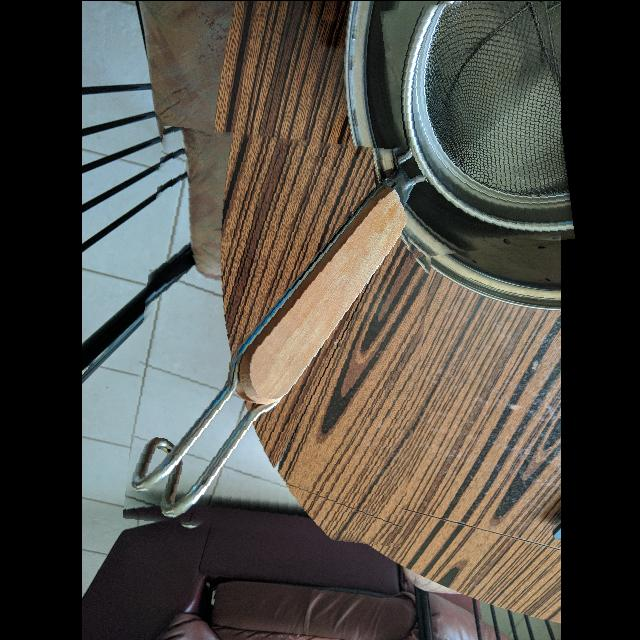Handle: (125, 152, 438, 523)
Strainer: (395, 0, 574, 238)
